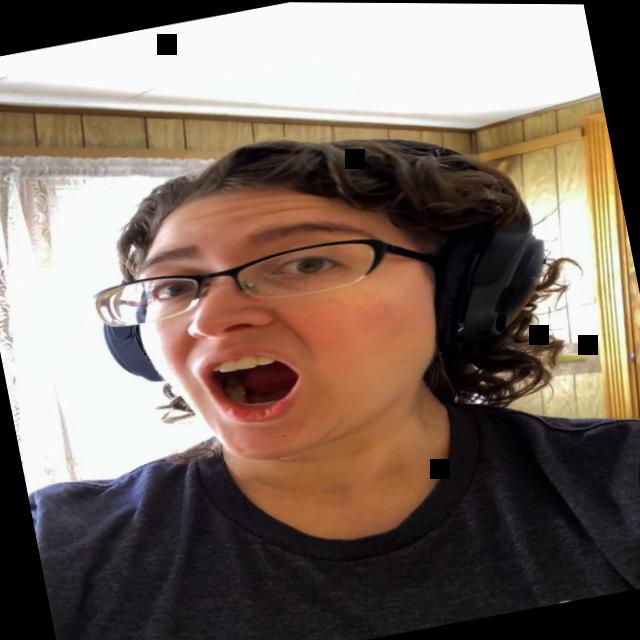NO-Mask: (112, 146, 468, 484)
